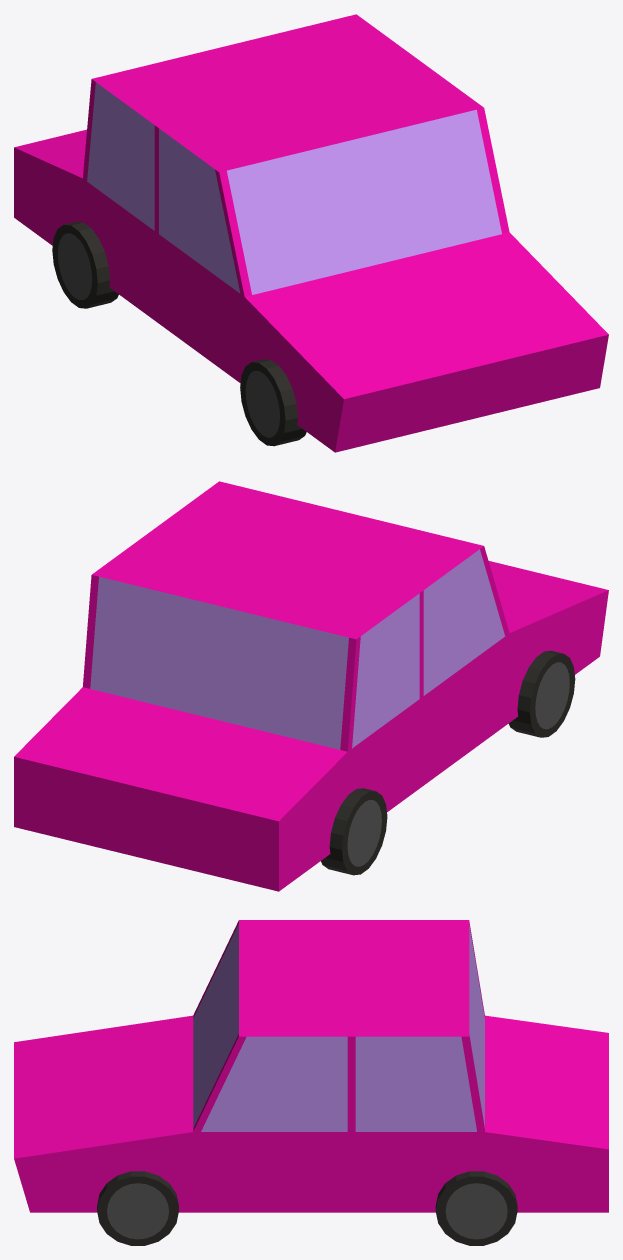
The model's file is CarLow.obj.
3 views of the same model, one above another, from view 1: azimuth 30°, elevation 25°; view 2: azimuth 150°, elevation 25°; view 3: azimuth 270°, elevation 25° (orthographic). The views are drawn at different scales.
Parts seen in each view (by area): view 1: Mesh1 Car Car1 Model, Mesh3 Tire2 Car1 Model, Mesh5 Tire4 Car1 Model; view 2: Mesh1 Car Car1 Model, Mesh5 Tire4 Car1 Model, Mesh3 Tire2 Car1 Model; view 3: Mesh1 Car Car1 Model, Mesh4 Tire3 Car1 Model, Mesh2 Tire1 Car1 Model.
Part boxes in pixels (x1,y1,x2,y2): Mesh1 Car Car1 Model: (14, 14, 608, 452); Mesh3 Tire2 Car1 Model: (240, 359, 306, 446); Mesh5 Tire4 Car1 Model: (52, 221, 118, 308); Mesh1 Car Car1 Model: (14, 481, 608, 891); Mesh5 Tire4 Car1 Model: (321, 788, 387, 875); Mesh3 Tire2 Car1 Model: (508, 650, 575, 737); Mesh1 Car Car1 Model: (14, 920, 608, 1212); Mesh4 Tire3 Car1 Model: (435, 1171, 517, 1245); Mesh2 Tire1 Car1 Model: (97, 1171, 178, 1245).
Size of the model in its own units: 0.9852 by 0.7348 by 1.94.
